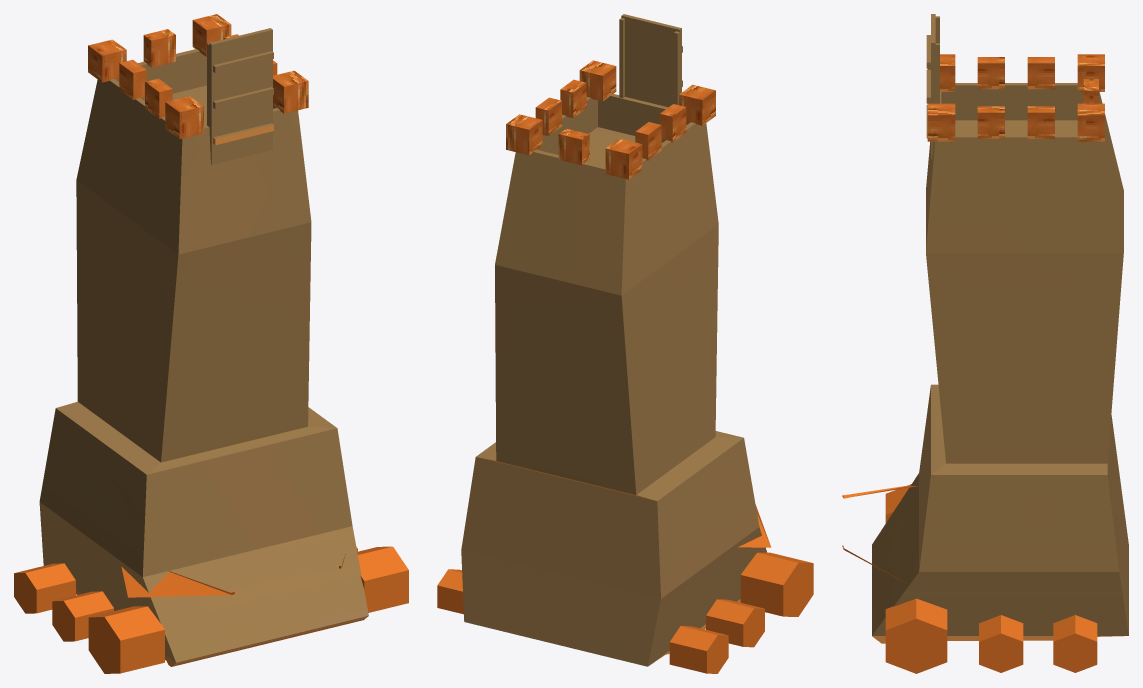
Rendered from ae_siege_tower_open_large_bronze_lod2.glb.
The picture shows the model from 3 angles, left to right: view 1: azimuth 30°, elevation 25°; view 2: azimuth 150°, elevation 25°; view 3: azimuth 270°, elevation 25°; orthographic projection. The views are drawn at different scales.
Parts seen in each view (by area): view 1: siege_tower_open_large, drawbridge; view 2: siege_tower_open_large, drawbridge; view 3: siege_tower_open_large, drawbridge.
Boxes of the visible parts, x1=… form: siege_tower_open_large: x1=14, y1=14, x2=408, y2=673; drawbridge: x1=207, y1=28, x2=273, y2=164; siege_tower_open_large: x1=437, y1=60, x2=813, y2=673; drawbridge: x1=619, y1=14, x2=682, y2=107; siege_tower_open_large: x1=842, y1=54, x2=1128, y2=673; drawbridge: x1=926, y1=14, x2=939, y2=159.
Size of the model in its own units: 67.27 by 133 by 59.71.
Materials: 4 (3 with a texture image).
